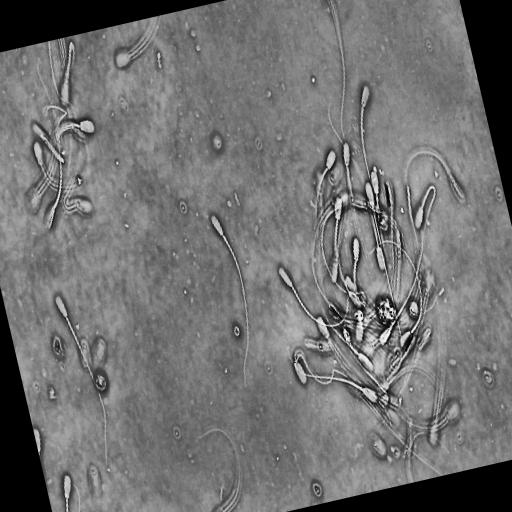coiled-tail: (41, 135, 64, 162), (65, 42, 74, 83), (354, 259, 357, 291)
dirt-particles: (374, 294, 399, 330), (93, 370, 109, 394), (51, 335, 64, 358), (312, 480, 325, 500), (212, 132, 223, 149), (232, 325, 241, 339)
folded-tail: (295, 355, 349, 384), (422, 185, 436, 234)
loose-tail: (292, 351, 351, 388)
normal: (52, 290, 109, 471), (208, 210, 252, 388), (364, 181, 403, 352), (314, 270, 377, 374), (368, 237, 424, 352), (285, 343, 381, 405), (276, 263, 350, 330), (403, 145, 469, 202), (342, 138, 370, 269), (48, 114, 98, 186), (359, 79, 384, 211), (314, 147, 338, 270), (31, 118, 64, 165), (413, 185, 438, 242), (57, 39, 75, 108), (352, 235, 361, 295), (61, 470, 73, 512)
